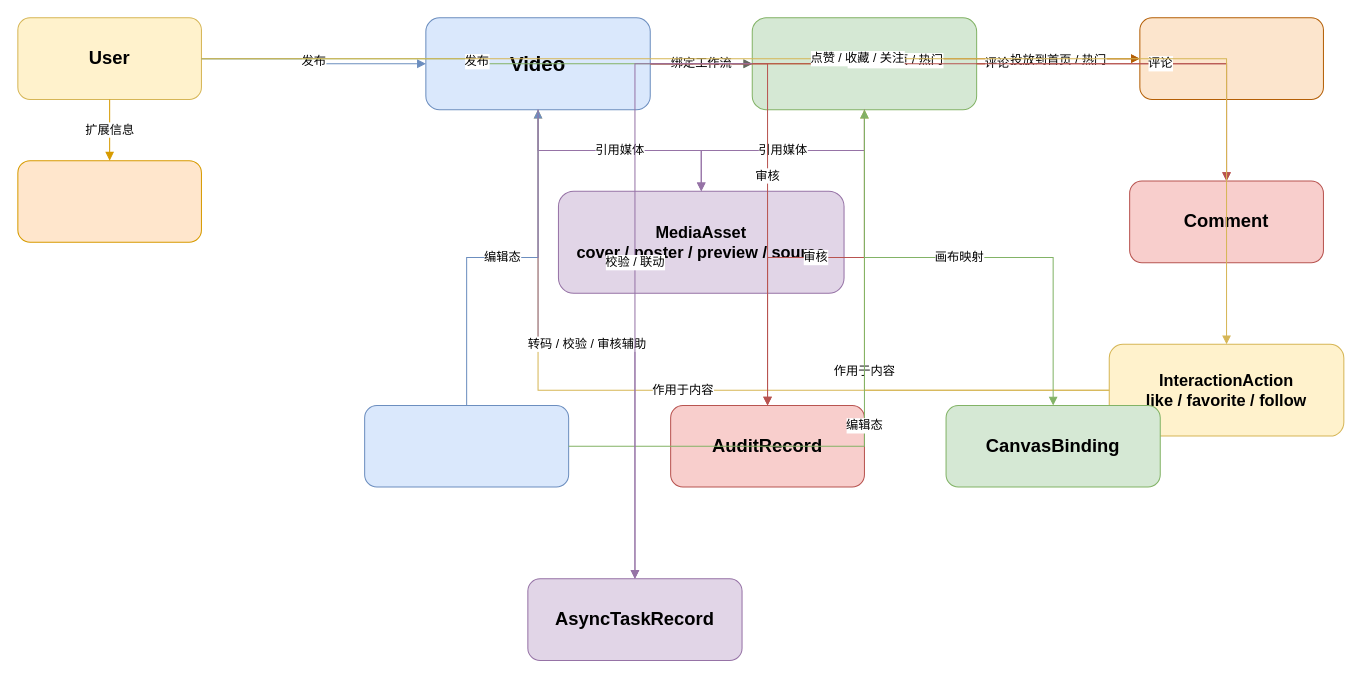
Some shapes in this 1362 by 678 pixel diagram are drawn without their labels. Here are the shapes that lost their labels. From the top down, the centre of each, then its label:
At point 864,63: "Workflow".
At point 1231,58: "FeedItem".
At point 109,201: "CreatorProfile".
At point 466,445: "PublishDraft".
